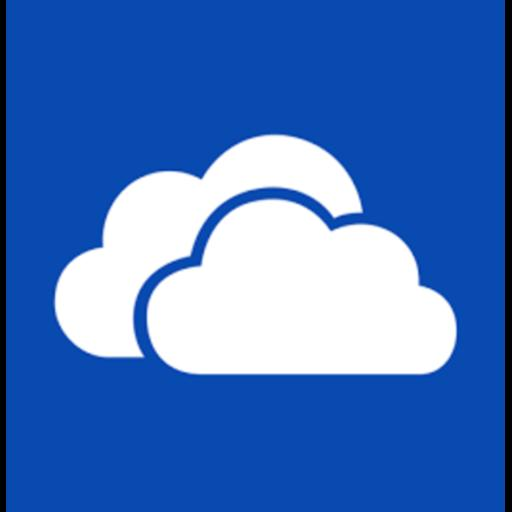Microsoft OneDrive: (6, 0, 505, 512)
